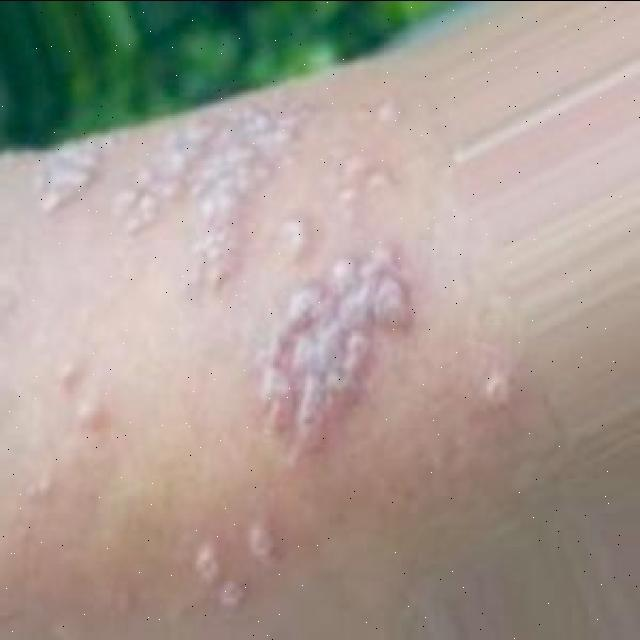Shingles: (108, 93, 406, 295), (253, 241, 416, 464), (181, 517, 283, 612), (27, 131, 115, 219), (484, 371, 512, 404)
